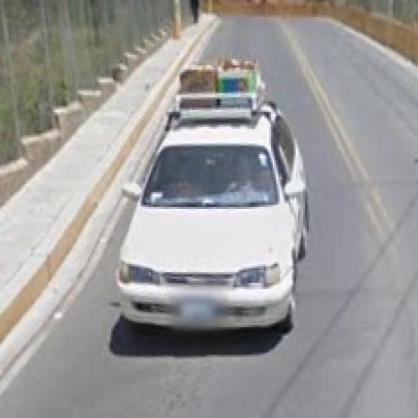car: (114, 64, 310, 328)
